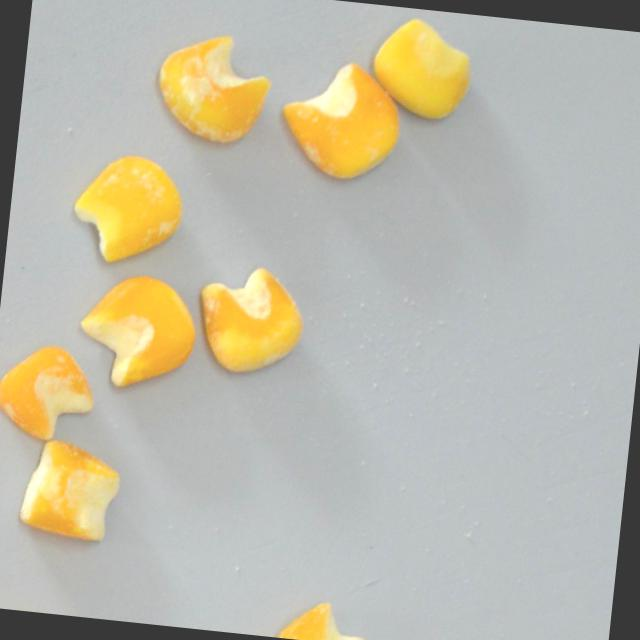no_canjicado: (74, 268, 202, 395), (366, 12, 477, 122)
no_desgerminado: (18, 437, 125, 542)
pelicula: (151, 25, 279, 150), (283, 63, 407, 183), (68, 148, 189, 269), (193, 260, 308, 379), (0, 339, 102, 445), (273, 597, 371, 640)
